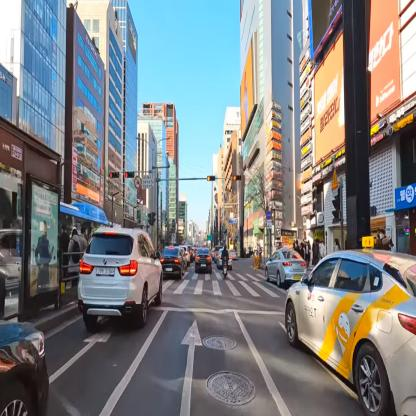red: (125, 170, 134, 180), (108, 171, 120, 178), (206, 176, 216, 183), (234, 176, 241, 180)
